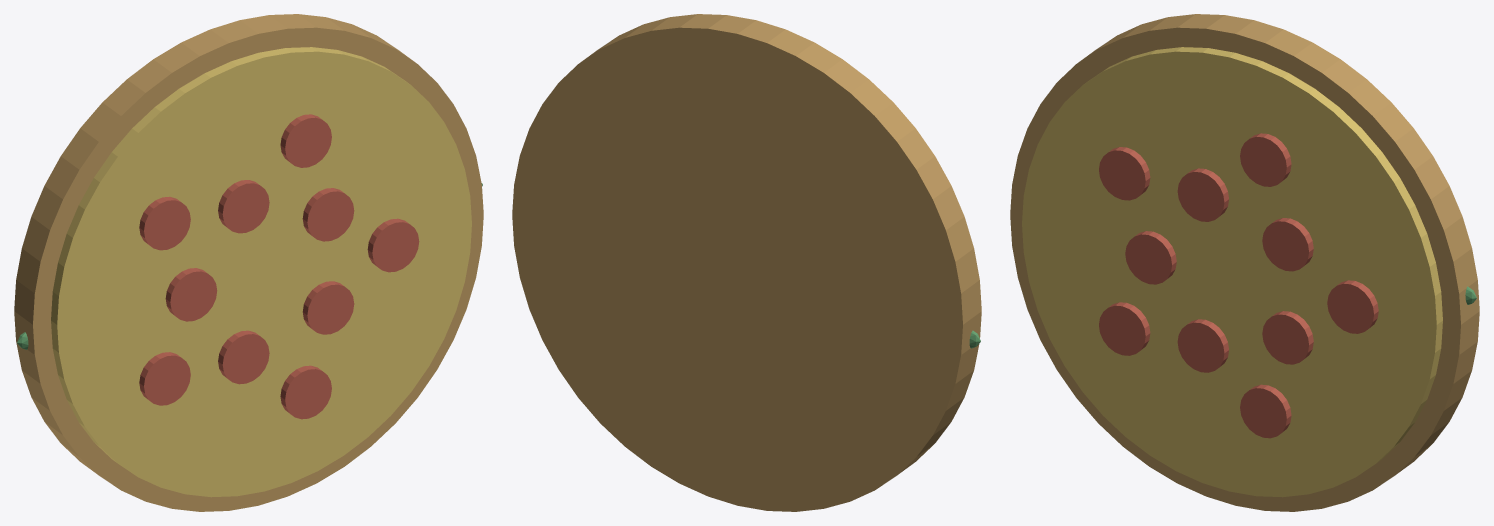
Rendered from pizza.glb.
3 views of the same model, side by side, from view 1: azimuth 30°, elevation 25°; view 2: azimuth 150°, elevation 25°; view 3: azimuth 330°, elevation 25° (orthographic).
Visible parts, largest first — view 1: world; view 2: world; view 3: world.
Part boxes in pixels (x1,y1,x2,y2): world: [14, 14, 483, 511]; world: [512, 14, 981, 511]; world: [1010, 14, 1479, 511].
Size of the model in its own units: 2.58 by 2.5 by 0.2875.
